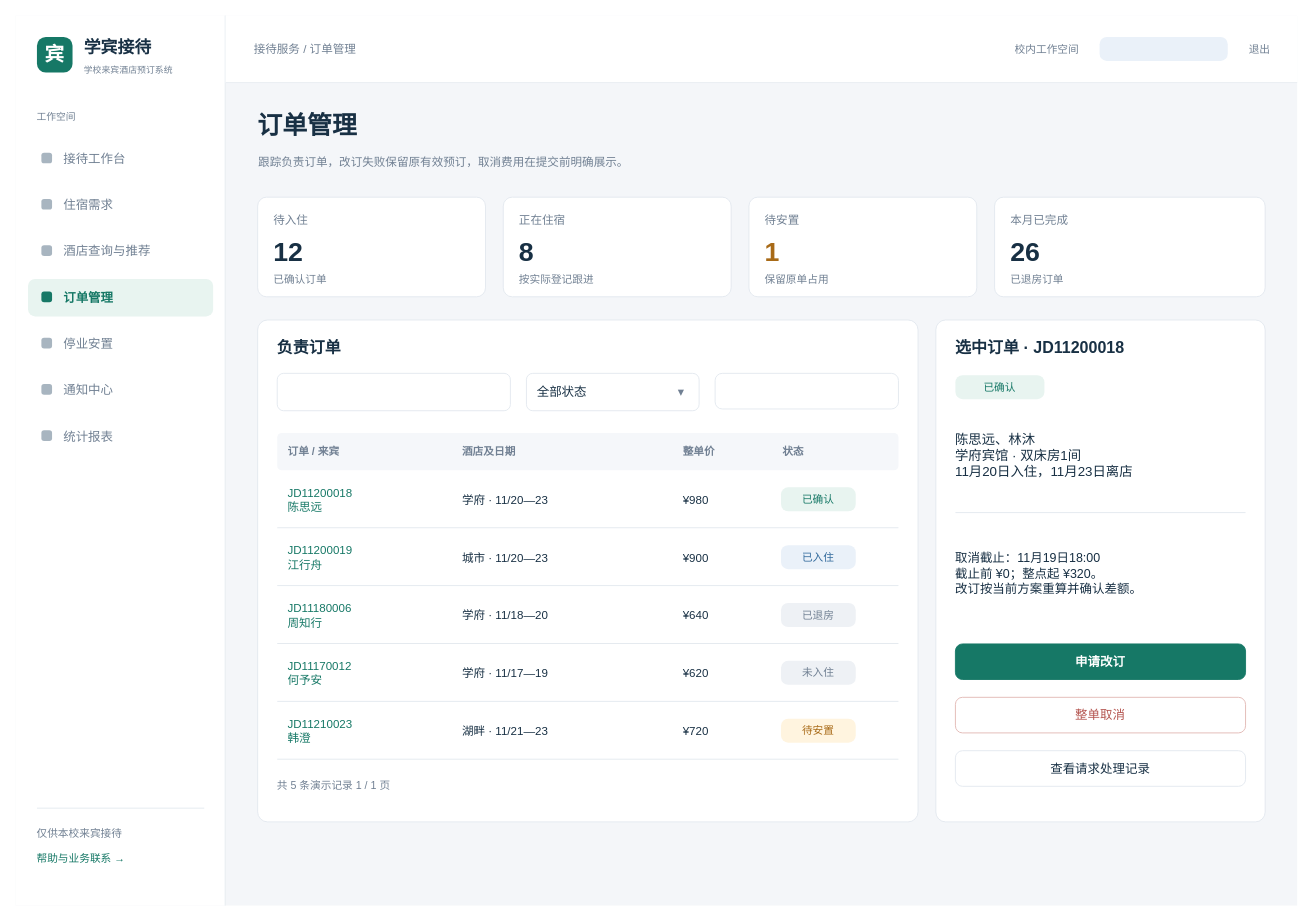
The diagram is 1312 pixels wide and 920 high, and some of its shapes have lost their labels. The shapes that lost their labels are listed below. From the top down, each one's box as (x1, y1, x2, y2) in pixels, then its label:
(1099, 36, 1227, 61): 学校接待人员
(276, 372, 510, 411): 订单号 / 来宾姓名
(714, 372, 898, 409): 查询
